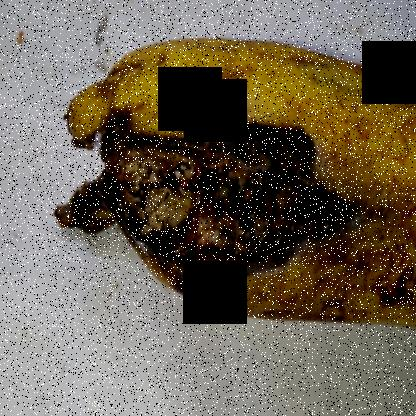ripe: (350, 53, 415, 349)
rotten: (58, 87, 374, 305)
